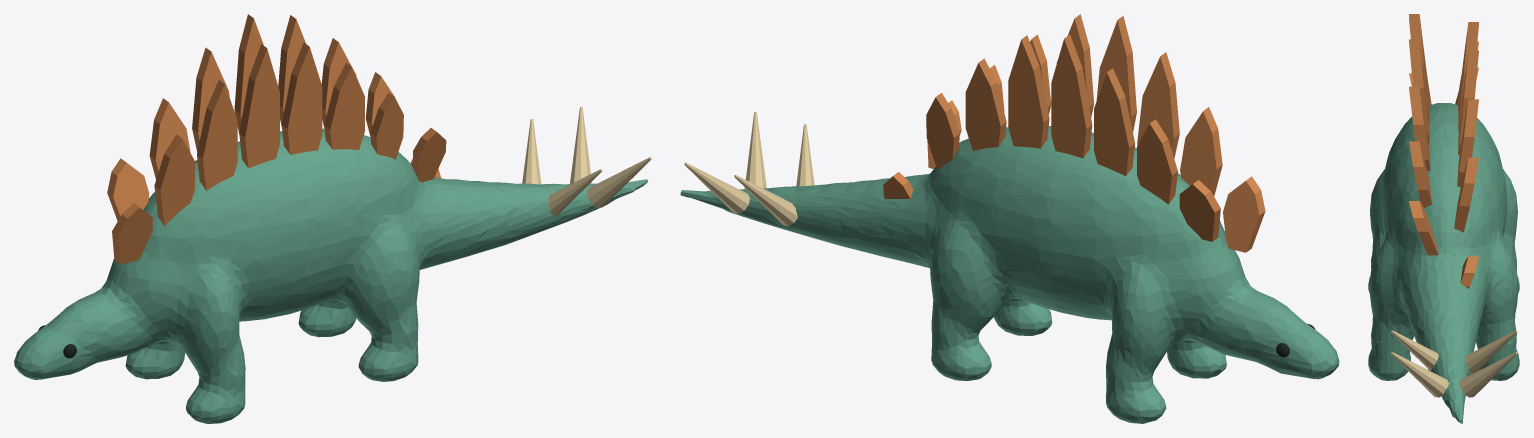
Rendered from NEW_RECOVERY_100_LOD0.glb.
3 views of the same model, side by side, from view 1: azimuth 30°, elevation 25°; view 2: azimuth 150°, elevation 25°; view 3: azimuth 270°, elevation 25° (orthographic). The views are drawn at different scales.
Visible parts, largest first — view 1: Stegosaurus continuous skin and armor; view 2: Stegosaurus continuous skin and armor; view 3: Stegosaurus continuous skin and armor.
Part boxes in pixels (x1,y1,x2,y2): Stegosaurus continuous skin and armor: (14, 14, 651, 423); Stegosaurus continuous skin and armor: (680, 14, 1339, 423); Stegosaurus continuous skin and armor: (1368, 14, 1519, 423).
Bounding box in the file's own units: 6.49 × 3.39 × 1.47.
